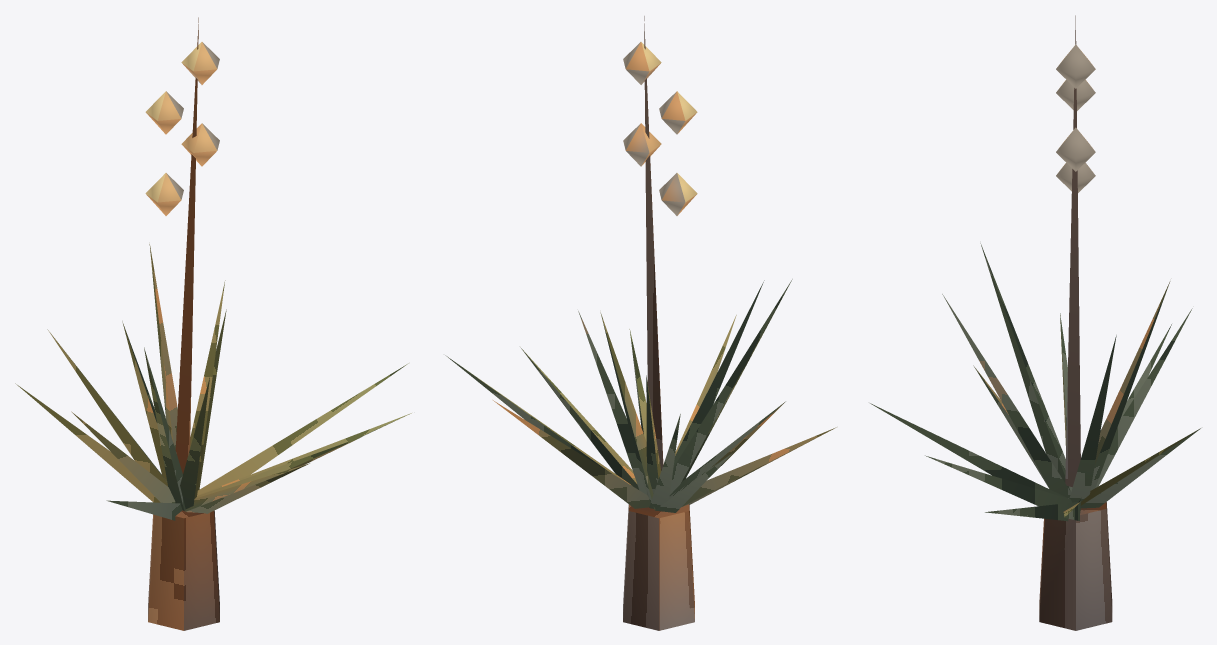
Rendered from wland.yucca.glb.
3 views of the same model, side by side, from view 1: azimuth 30°, elevation 25°; view 2: azimuth 150°, elevation 25°; view 3: azimuth 270°, elevation 25° (orthographic).
Visible parts, largest first — view 1: kit_leaves, kit_trunk, kit_blooms, kit_stalk; view 2: kit_leaves, kit_trunk, kit_blooms, kit_stalk; view 3: kit_leaves, kit_trunk, kit_stalk, kit_blooms.
Part boxes in pixels (x1,y1,x2,y2): kit_leaves: (15,244,411,520); kit_trunk: (148,510,219,630); kit_blooms: (145,42,219,215); kit_stalk: (175,17,198,473); kit_leaves: (445,279,836,512); kit_trunk: (623,504,694,630); kit_blooms: (623,42,697,215); kit_stalk: (644,16,663,470); kit_leaves: (870,243,1200,521); kit_trunk: (1039,502,1112,630); kit_stalk: (1065,15,1080,487); kit_blooms: (1056,44,1095,192).
Bounding box in the file's own units: 1.17 × 1.9 × 0.9535.
3 materials, 3 textured.
